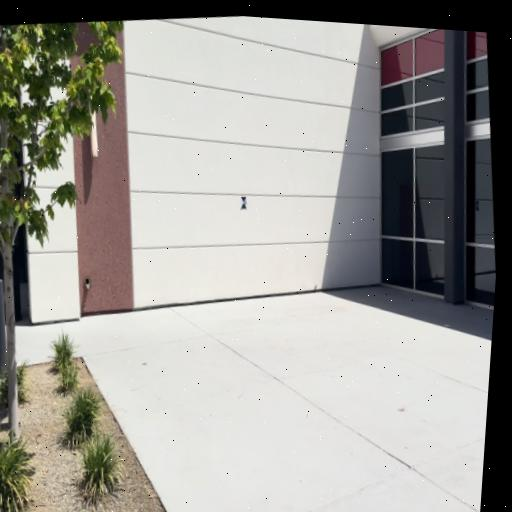target0: (240, 195, 248, 209)
